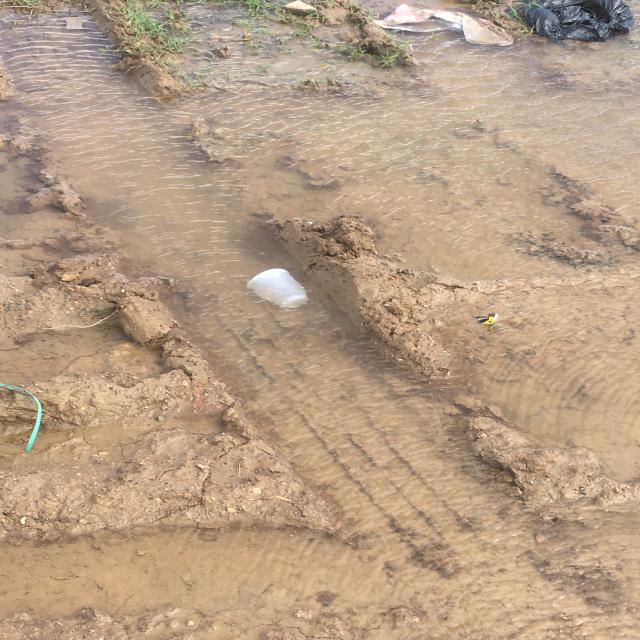Plastic bag: (371, 3, 517, 52), (504, 1, 638, 47)
Plastic cup: (242, 267, 314, 312)
